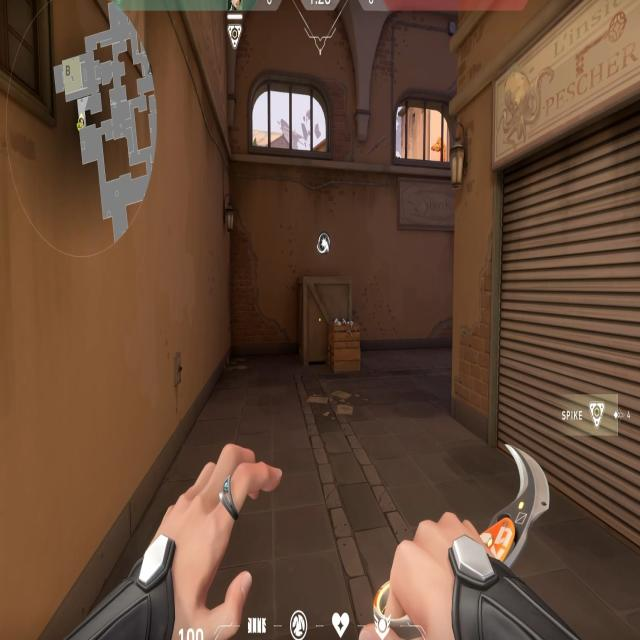B_Main_Wallbang: (295, 217, 369, 376)
Throwables: (242, 62, 335, 170), (387, 84, 452, 177)
